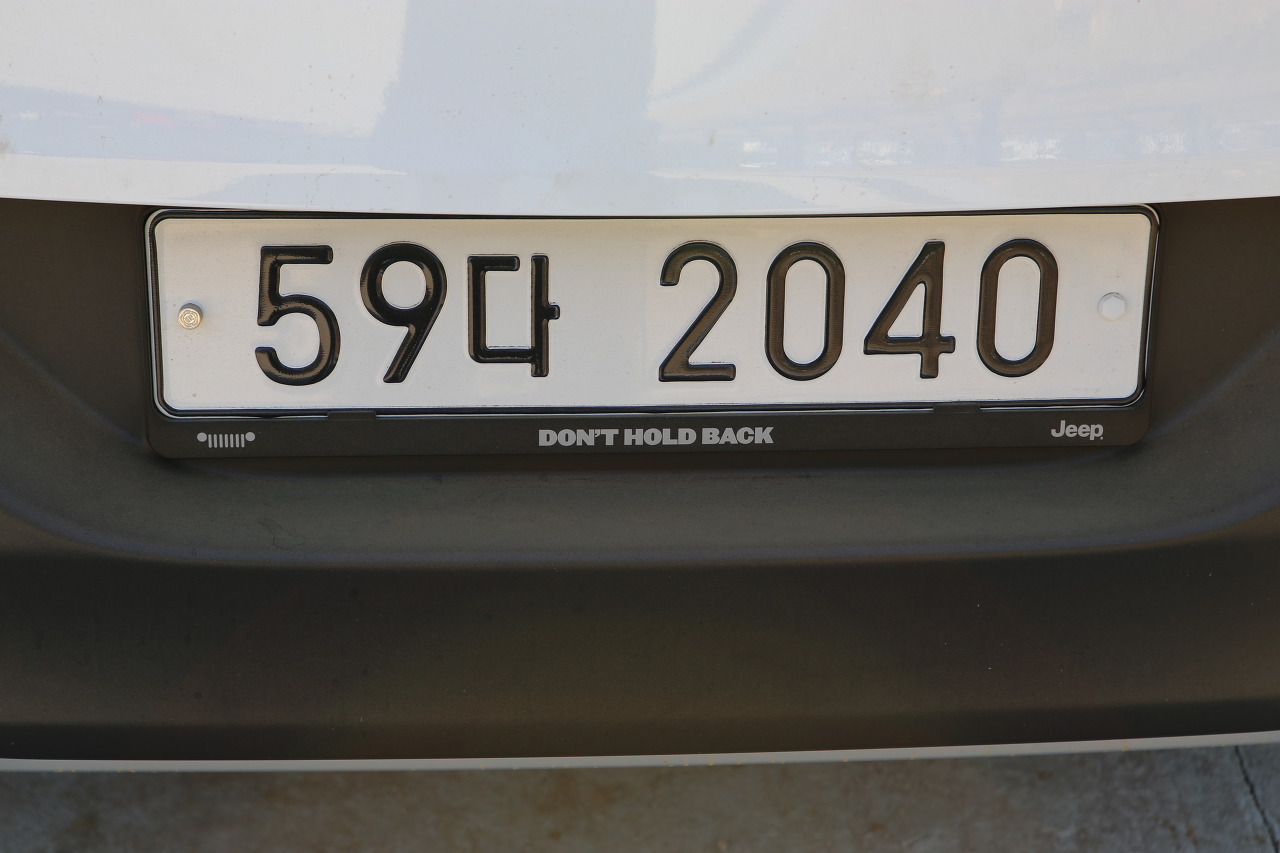plate: (148, 211, 1142, 404)
